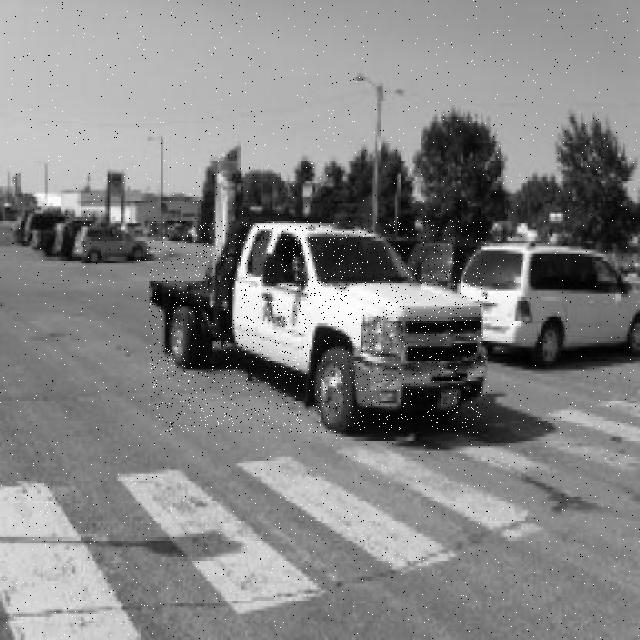Pickup- Utility: (149, 220, 487, 433)
